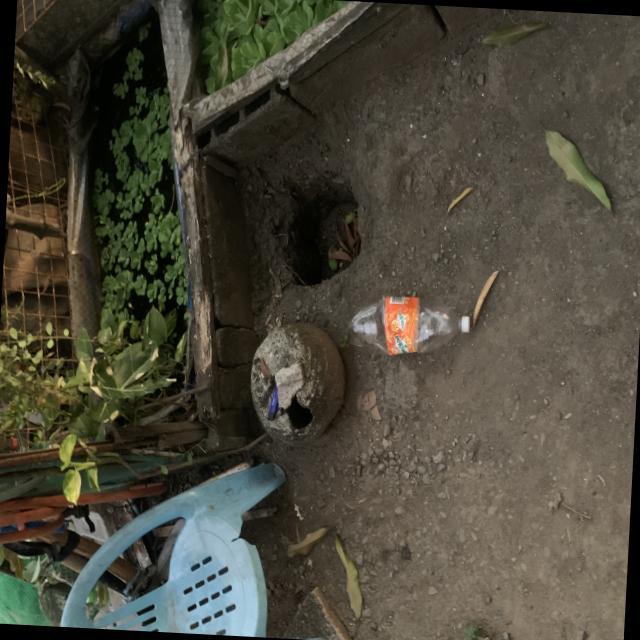Bottle: (348, 296, 469, 356)
